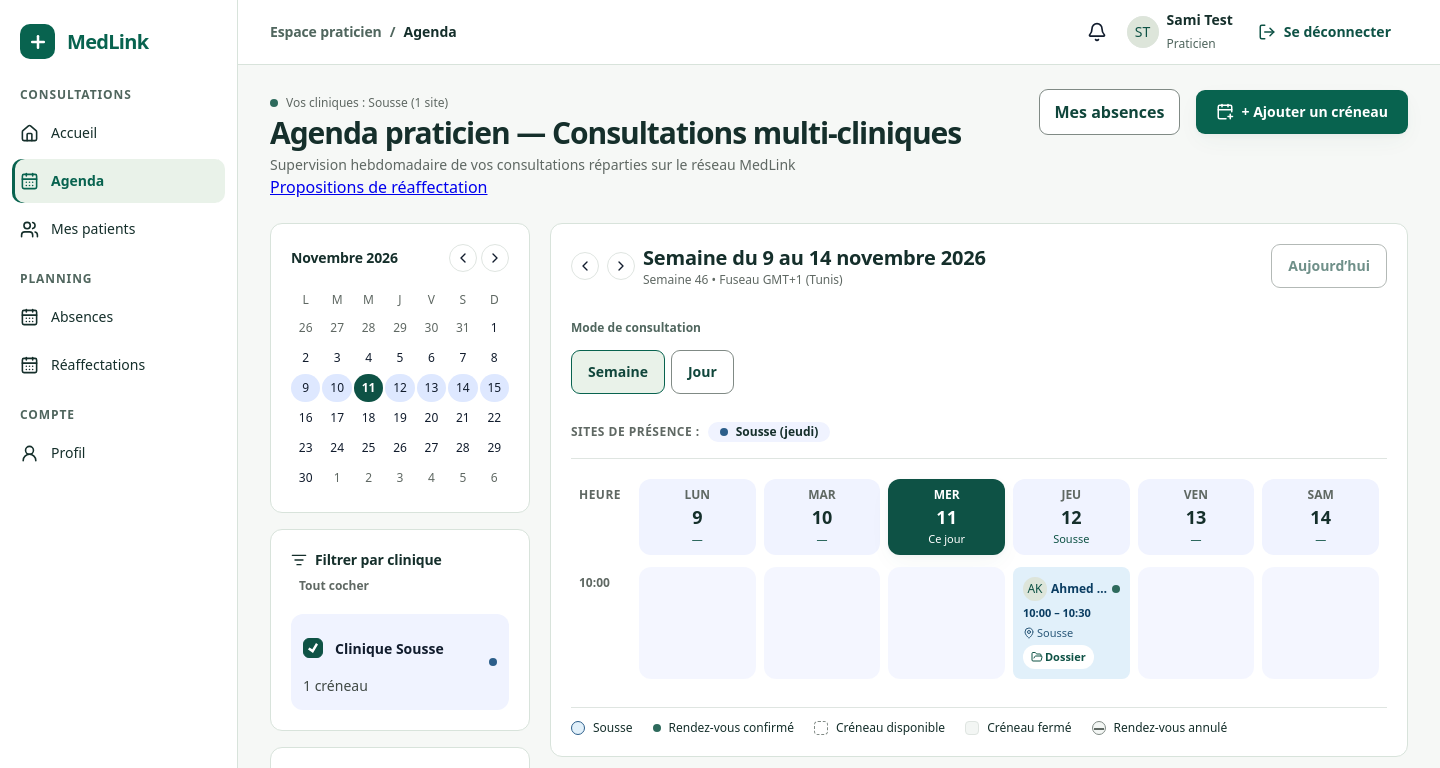
clicking "Ouvrir le dossier" on an appointment of the agenda opens that patient’s record
The width and height of the screenshot is (1440, 768).
Click the link with aria-label "Ouvrir le dossier de Ahmed Kacem" at (1058, 657), box [1023,645,1094,669]
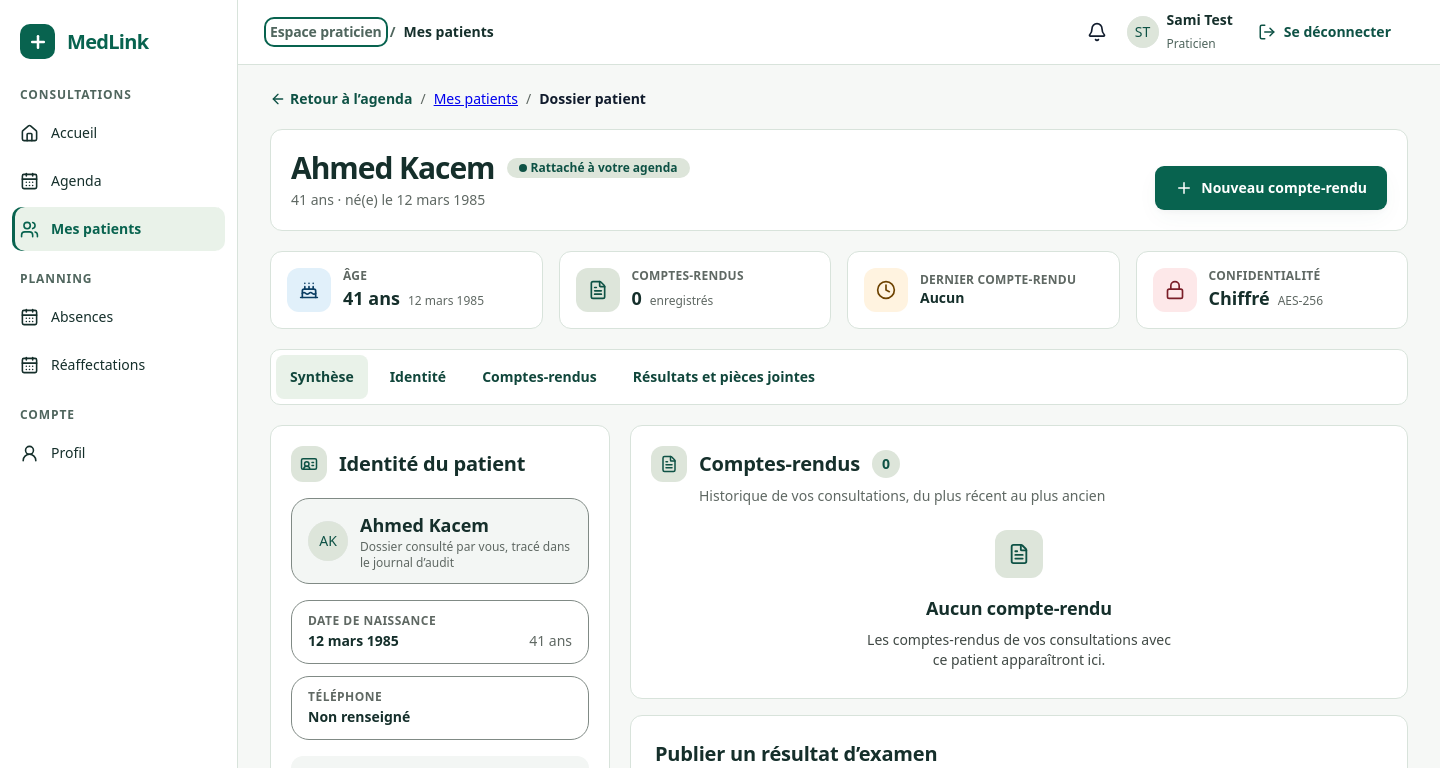
expect the heading "Ahmed Kacem" is shown: met, box [291,150,494,186]
